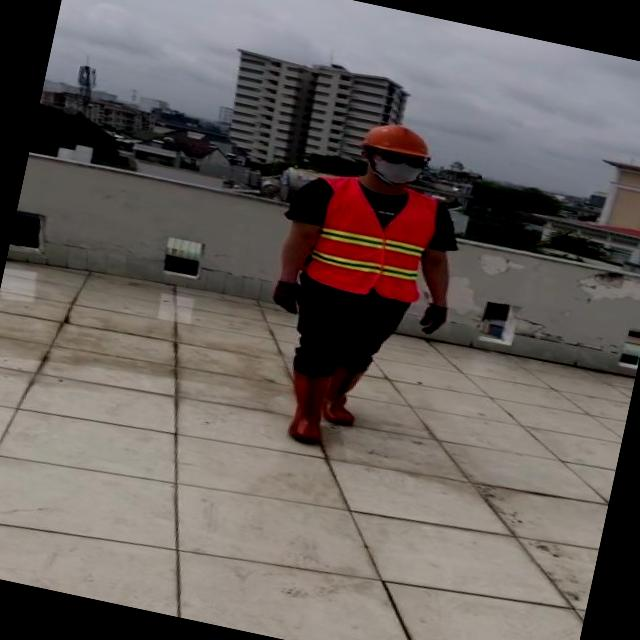boots: (277, 366, 336, 445), (320, 364, 367, 428)
gloves: (266, 278, 309, 316), (416, 300, 449, 342)
helmet: (357, 116, 434, 163)
vest: (300, 172, 438, 306)
